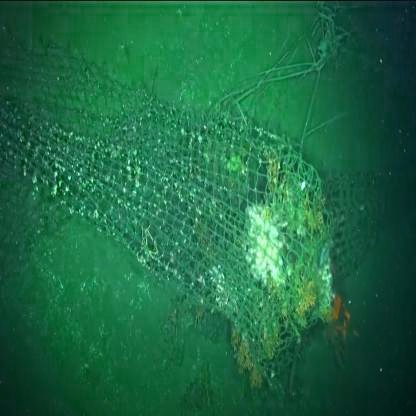net: (28, 63, 312, 326)
